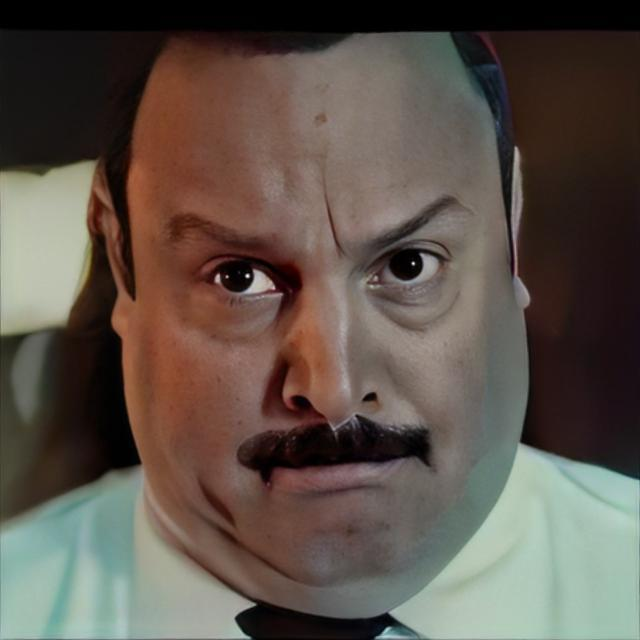anger: (126, 59, 495, 587)
